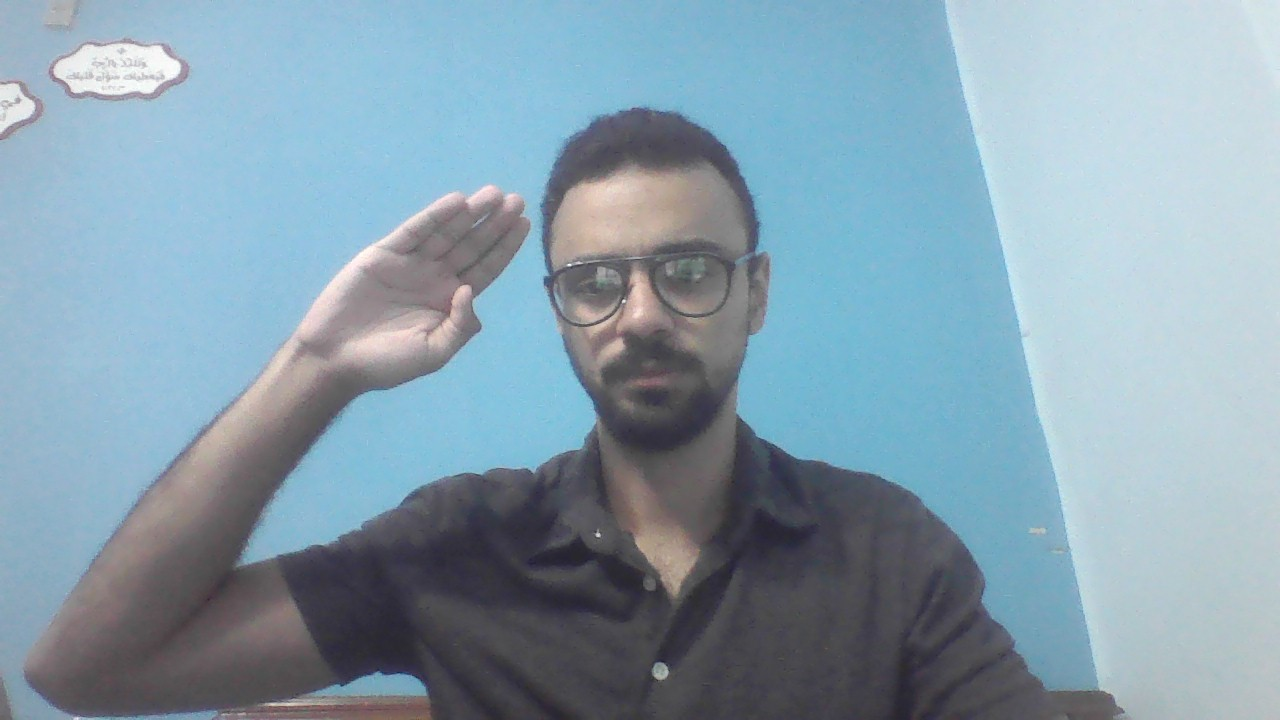hello: (25, 184, 533, 694)
